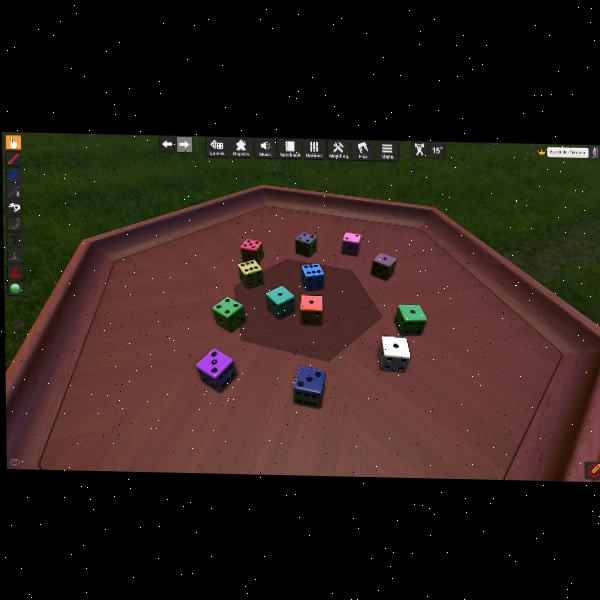d6: (197, 347, 236, 392), (293, 365, 326, 408), (211, 296, 244, 332), (379, 334, 411, 371), (265, 285, 296, 319), (395, 303, 426, 335), (370, 252, 396, 281), (238, 259, 264, 288), (300, 262, 324, 292), (300, 295, 323, 325), (239, 238, 264, 263), (295, 232, 318, 257), (342, 232, 361, 256)
